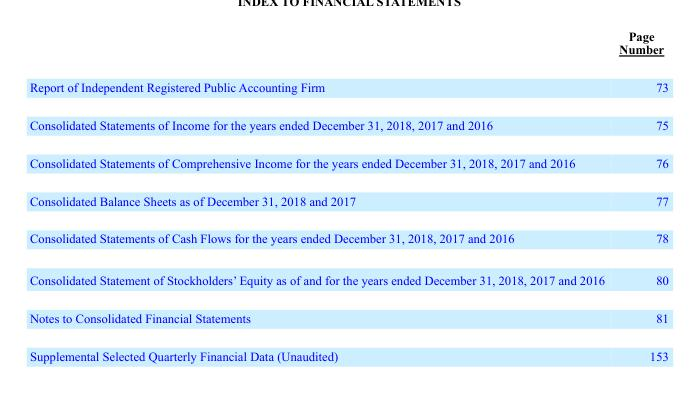table: (28, 29, 667, 362)
table column: (28, 29, 611, 362), (611, 29, 667, 362)
table column header: (28, 29, 667, 67)
table row: (28, 258, 667, 298), (28, 219, 667, 258), (28, 29, 667, 67), (28, 67, 667, 105), (28, 105, 667, 143), (28, 143, 667, 181), (28, 181, 667, 219), (28, 298, 667, 336), (28, 336, 667, 362)
